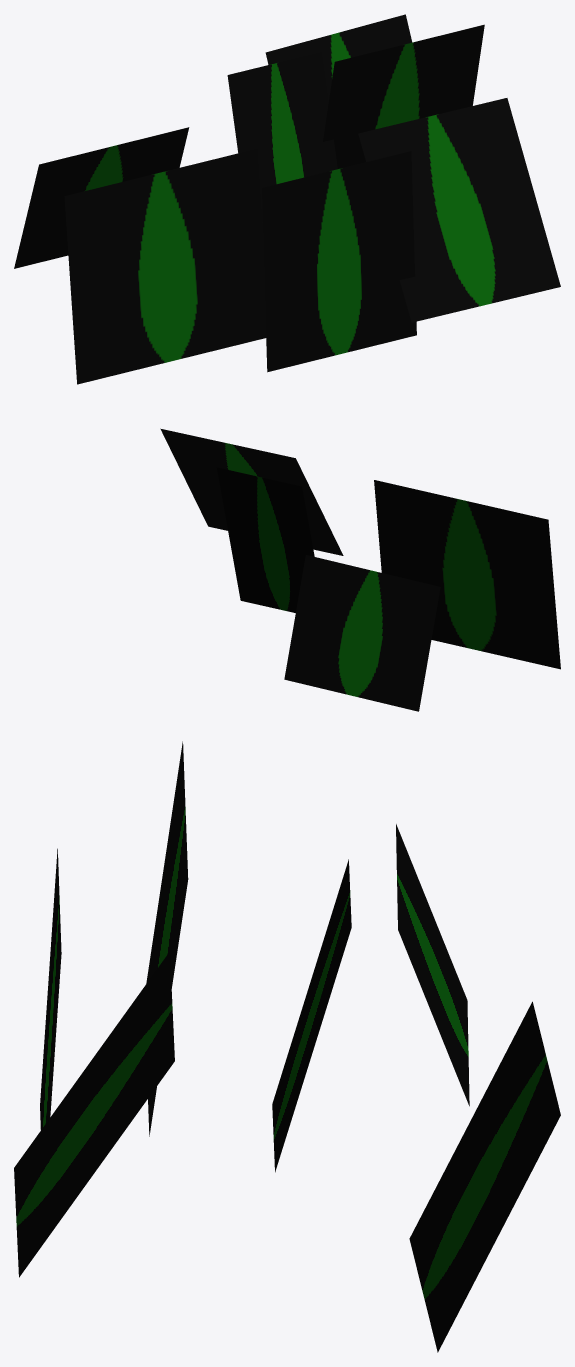
Rendered from grass.gltf.
3 renders of one model, top to bottom at view 1: azimuth 30°, elevation 25°; view 2: azimuth 150°, elevation 25°; view 3: azimuth 270°, elevation 25°, orthographic. The views are drawn at different scales.
Parts seen in each view (by area): view 1: grass; view 2: grass; view 3: grass.
Boxes of the visible parts, box(x1,y1,x2,y2) form: grass: box(14, 14, 560, 384); grass: box(160, 428, 560, 711); grass: box(14, 741, 560, 1352).
Bounding box in the file's own units: 1.28 × 0.5808 × 0.8783.
Materials: 1 (1 with a texture image).
